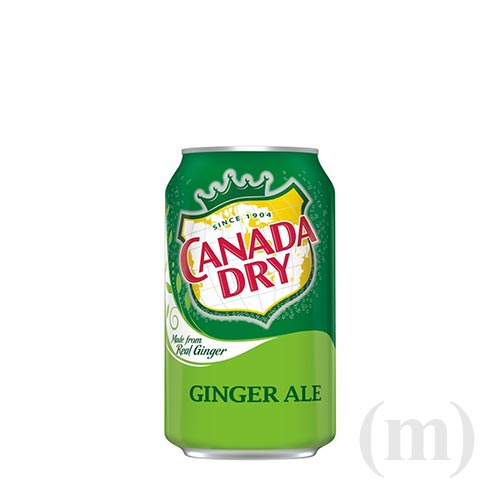Lata: (160, 144, 338, 464)
